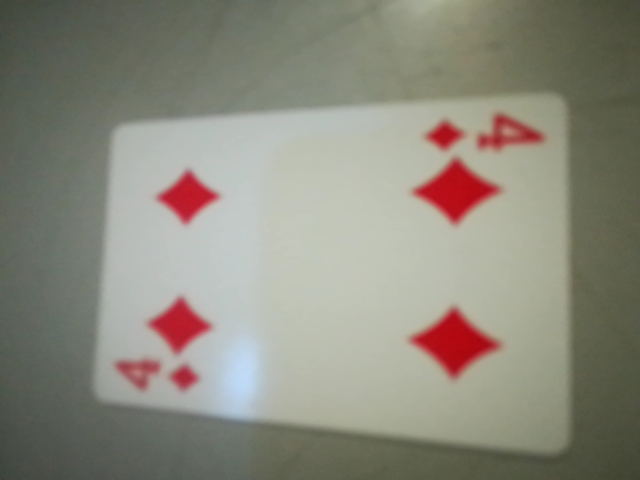fk 4: (402, 109, 553, 187)
